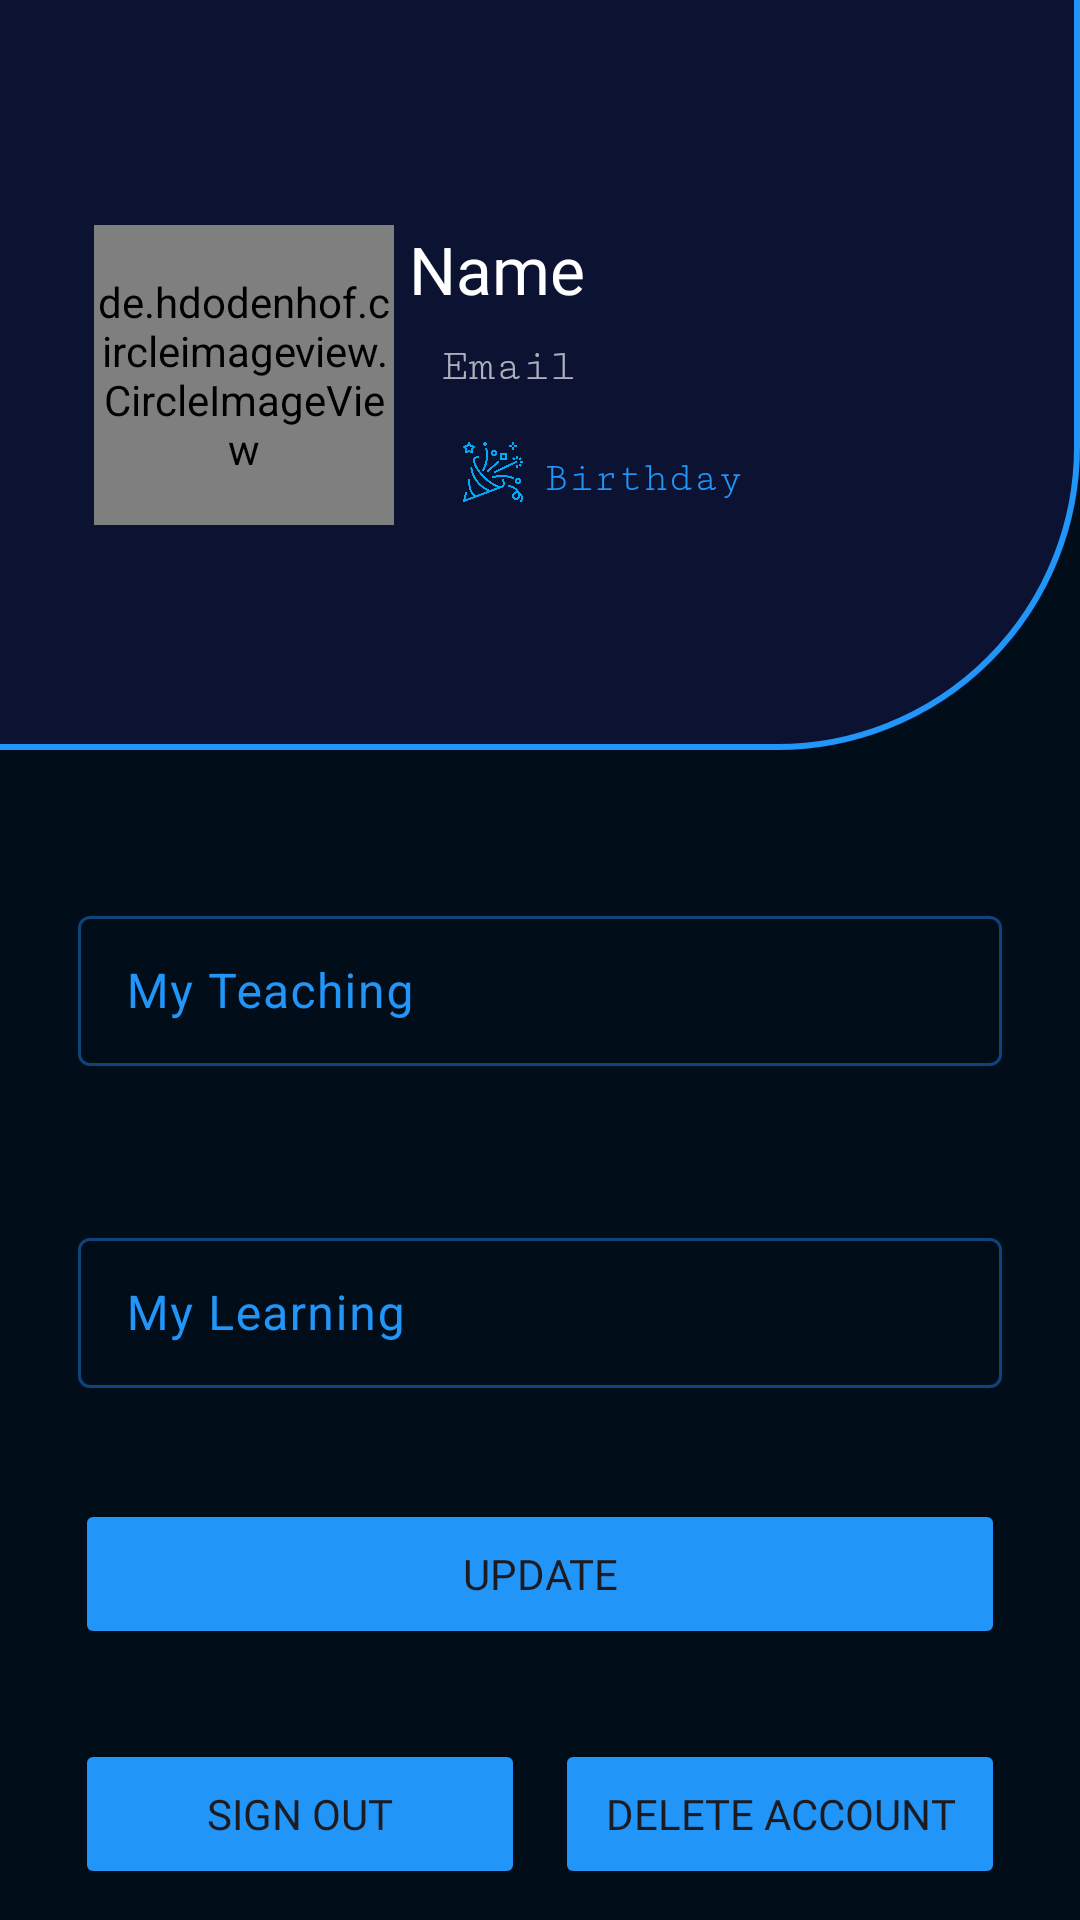

Icon bounding boxes for this 1080px x 1920px phone screenshot, format (x1, y1, x2, y2):
bday: (463, 442, 523, 502)
